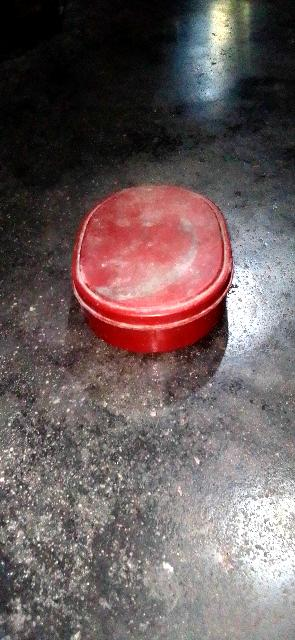hardplastic: (30, 145, 283, 367)
